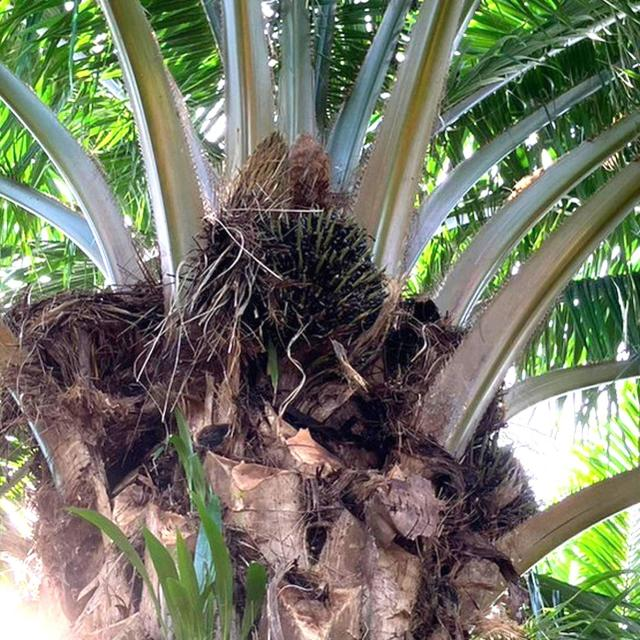unripe: (248, 202, 395, 370)
